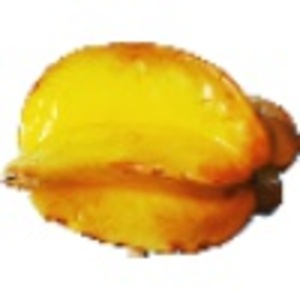carambola: (1, 41, 300, 260)
